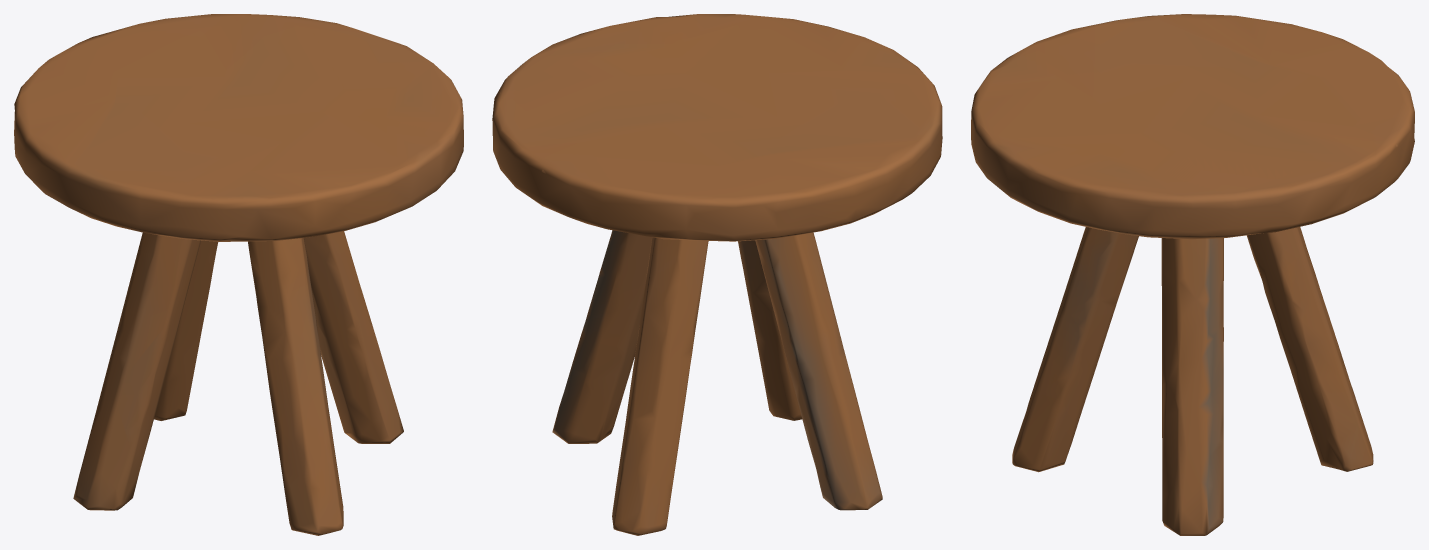
Rendered from gen3d-side-table-lod0.glb.
3 renders of one model, left to right at view 1: azimuth 30°, elevation 25°; view 2: azimuth 150°, elevation 25°; view 3: azimuth 270°, elevation 25°, orthographic.
Visible parts, largest first — view 1: part_0; view 2: part_0; view 3: part_0.
Boxes of the visible parts, x1,y1,x2,y2 form: part_0: (14, 14, 463, 535); part_0: (492, 14, 942, 535); part_0: (971, 14, 1414, 535).
Bounding box in the file's own units: 1.13 × 1 × 1.13.
